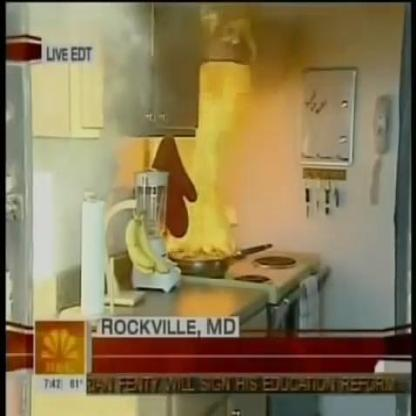fire: (145, 59, 257, 258)
